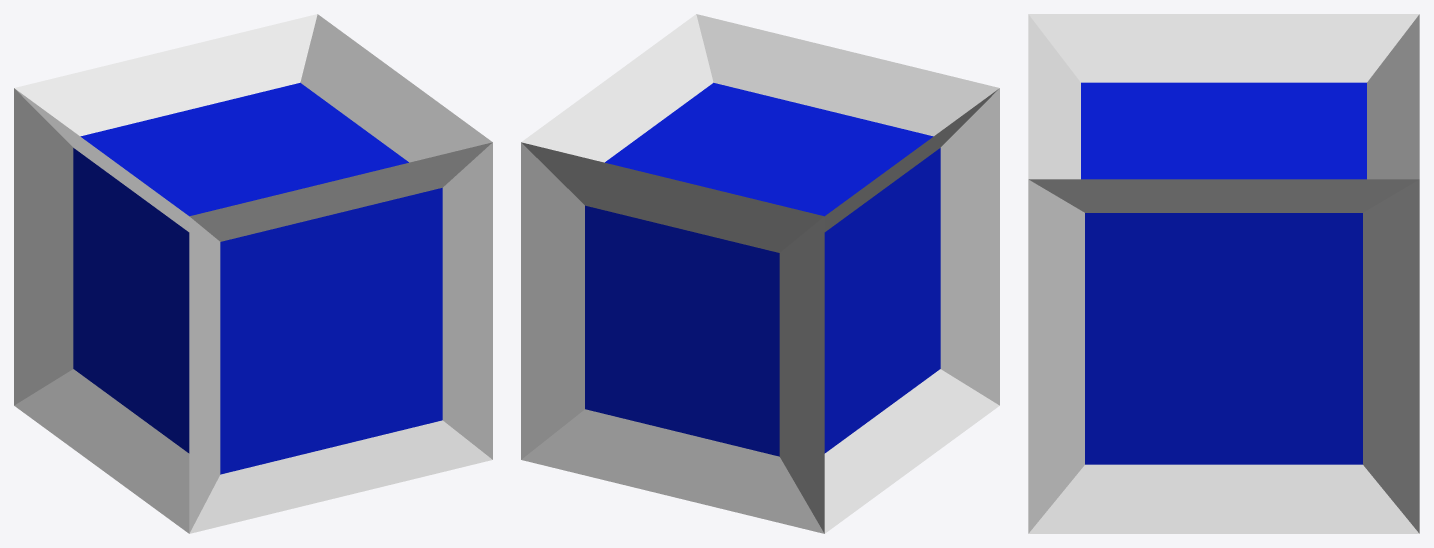
3 views of the same model, side by side, from view 1: azimuth 30°, elevation 25°; view 2: azimuth 150°, elevation 25°; view 3: azimuth 270°, elevation 25° (orthographic). The views are drawn at different scales.
Parts seen in each view (by area): view 1: Cube; view 2: Cube; view 3: Cube.
Boxes of the visible parts, <box> form: Cube: <box>14,14,492,533</box>; Cube: <box>521,14,999,533</box>; Cube: <box>1028,14,1419,533</box>.
Size of the model in its own units: 200 by 200 by 200.
